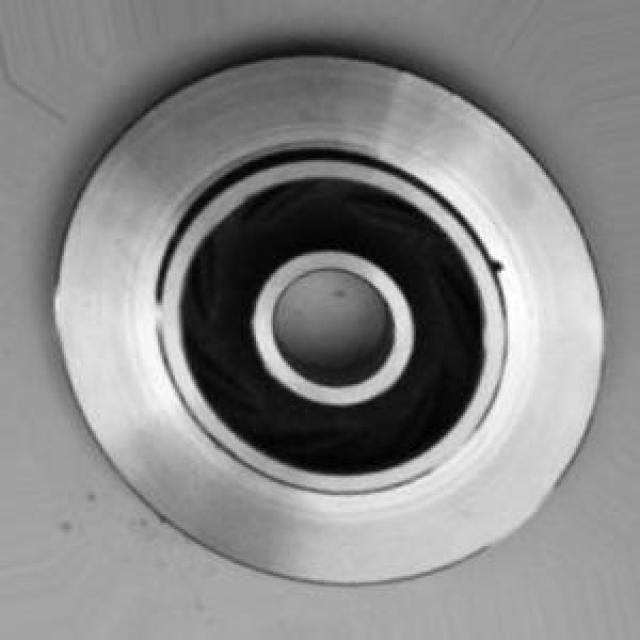Defect: (483, 242, 509, 289)
